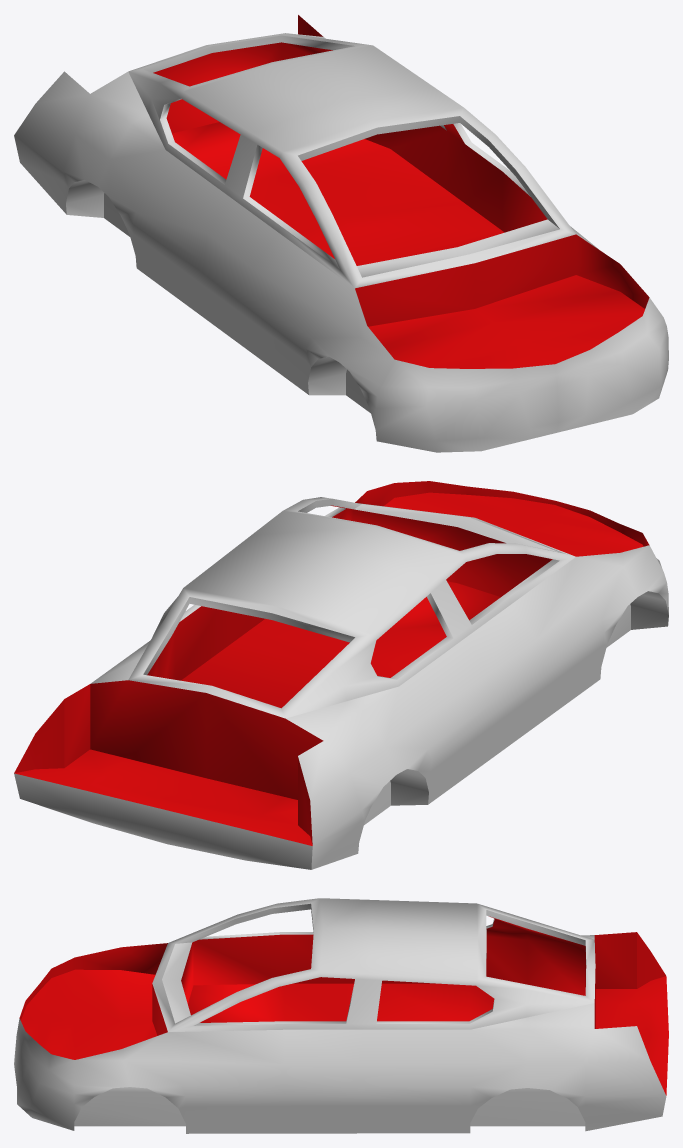
Rendered from Car.fbx.
The picture shows the model from 3 angles, top to bottom: view 1: azimuth 30°, elevation 25°; view 2: azimuth 150°, elevation 25°; view 3: azimuth 270°, elevation 25°; orthographic projection. The views are drawn at different scales.
Visible parts, largest first — view 1: Car, Car.001; view 2: Car, Car.001; view 3: Car, Car.001.
Part boxes in pixels (left/top/right/bottom): Car: left=14, top=33, right=668, bottom=452; Car.001: left=153, top=15, right=649, bottom=368; Car: left=14, top=497, right=668, bottom=869; Car.001: left=14, top=481, right=649, bottom=845; Car: left=14, top=898, right=666, bottom=1133; Car.001: left=19, top=916, right=668, bottom=1095.
Bounding box in the file's own units: 184 × 110 × 423.
